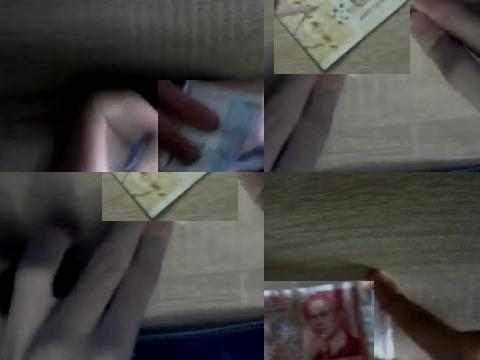10leva: (274, 0, 410, 74), (108, 172, 213, 221)
20leva: (158, 80, 264, 172)
5leva: (264, 281, 374, 360)
